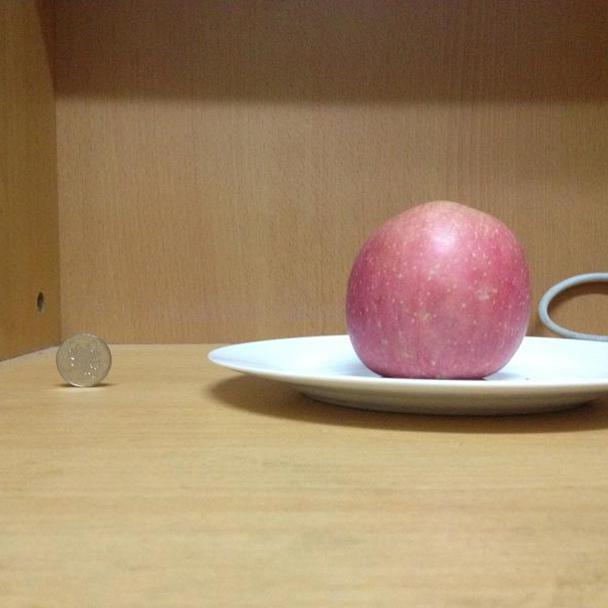apple: (344, 198, 532, 379)
